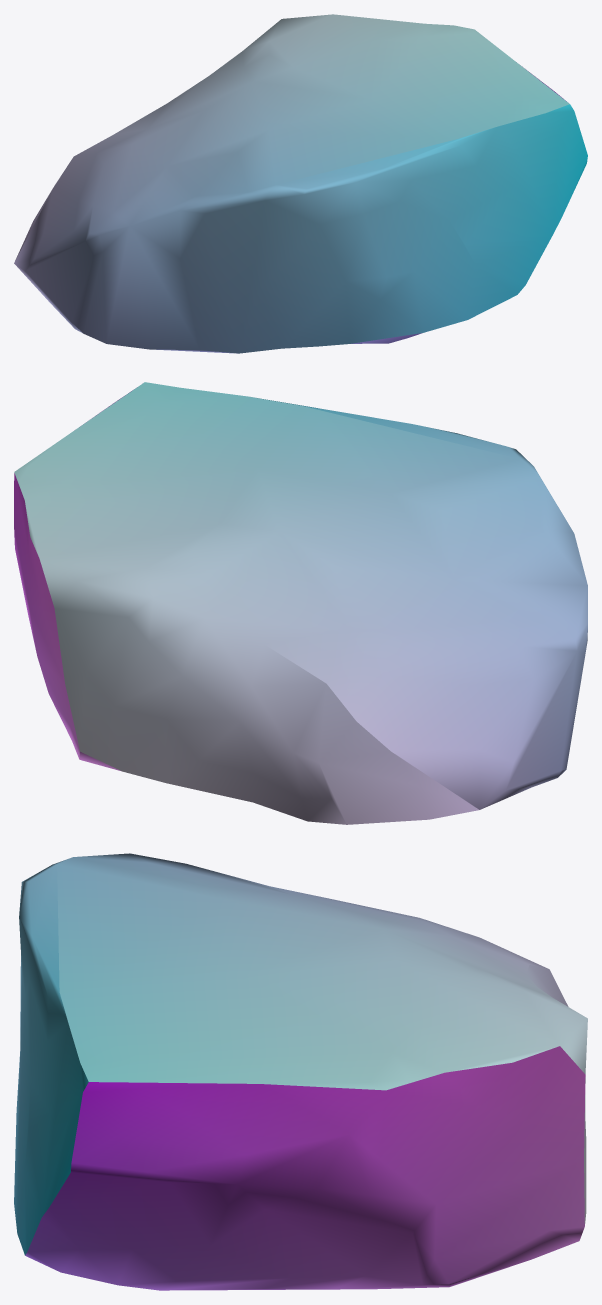
3 renders of one model, top to bottom at view 1: azimuth 30°, elevation 25°; view 2: azimuth 150°, elevation 25°; view 3: azimuth 270°, elevation 25°, orthographic. The views are drawn at different scales.
Parts seen in each view (by area): view 1: SM_FH_Leaf_Piles_04_LOD0; view 2: SM_FH_Leaf_Piles_04_LOD0; view 3: SM_FH_Leaf_Piles_04_LOD0.
Boxes of the visible parts, box(x1,y1,x2,y2) form: SM_FH_Leaf_Piles_04_LOD0: box(14, 14, 587, 353); SM_FH_Leaf_Piles_04_LOD0: box(14, 382, 587, 824); SM_FH_Leaf_Piles_04_LOD0: box(14, 853, 587, 1290).
Size of the model in its own units: 0.6433 by 0.2637 by 0.5043.
